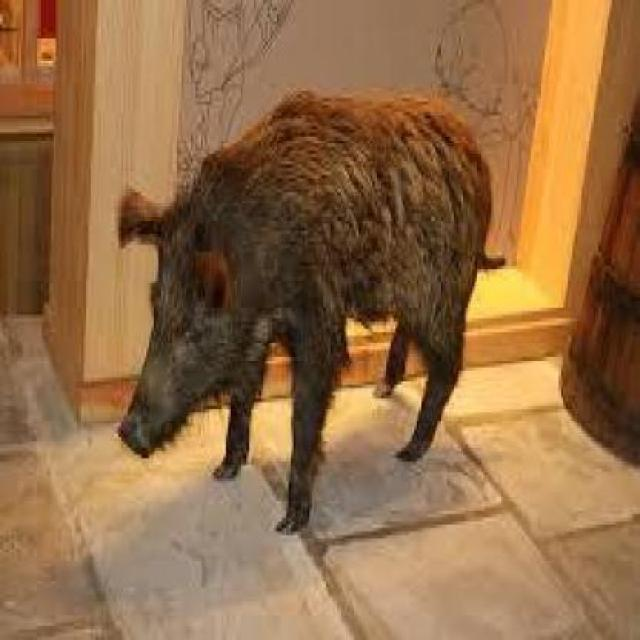wildboar: (112, 84, 514, 538)
